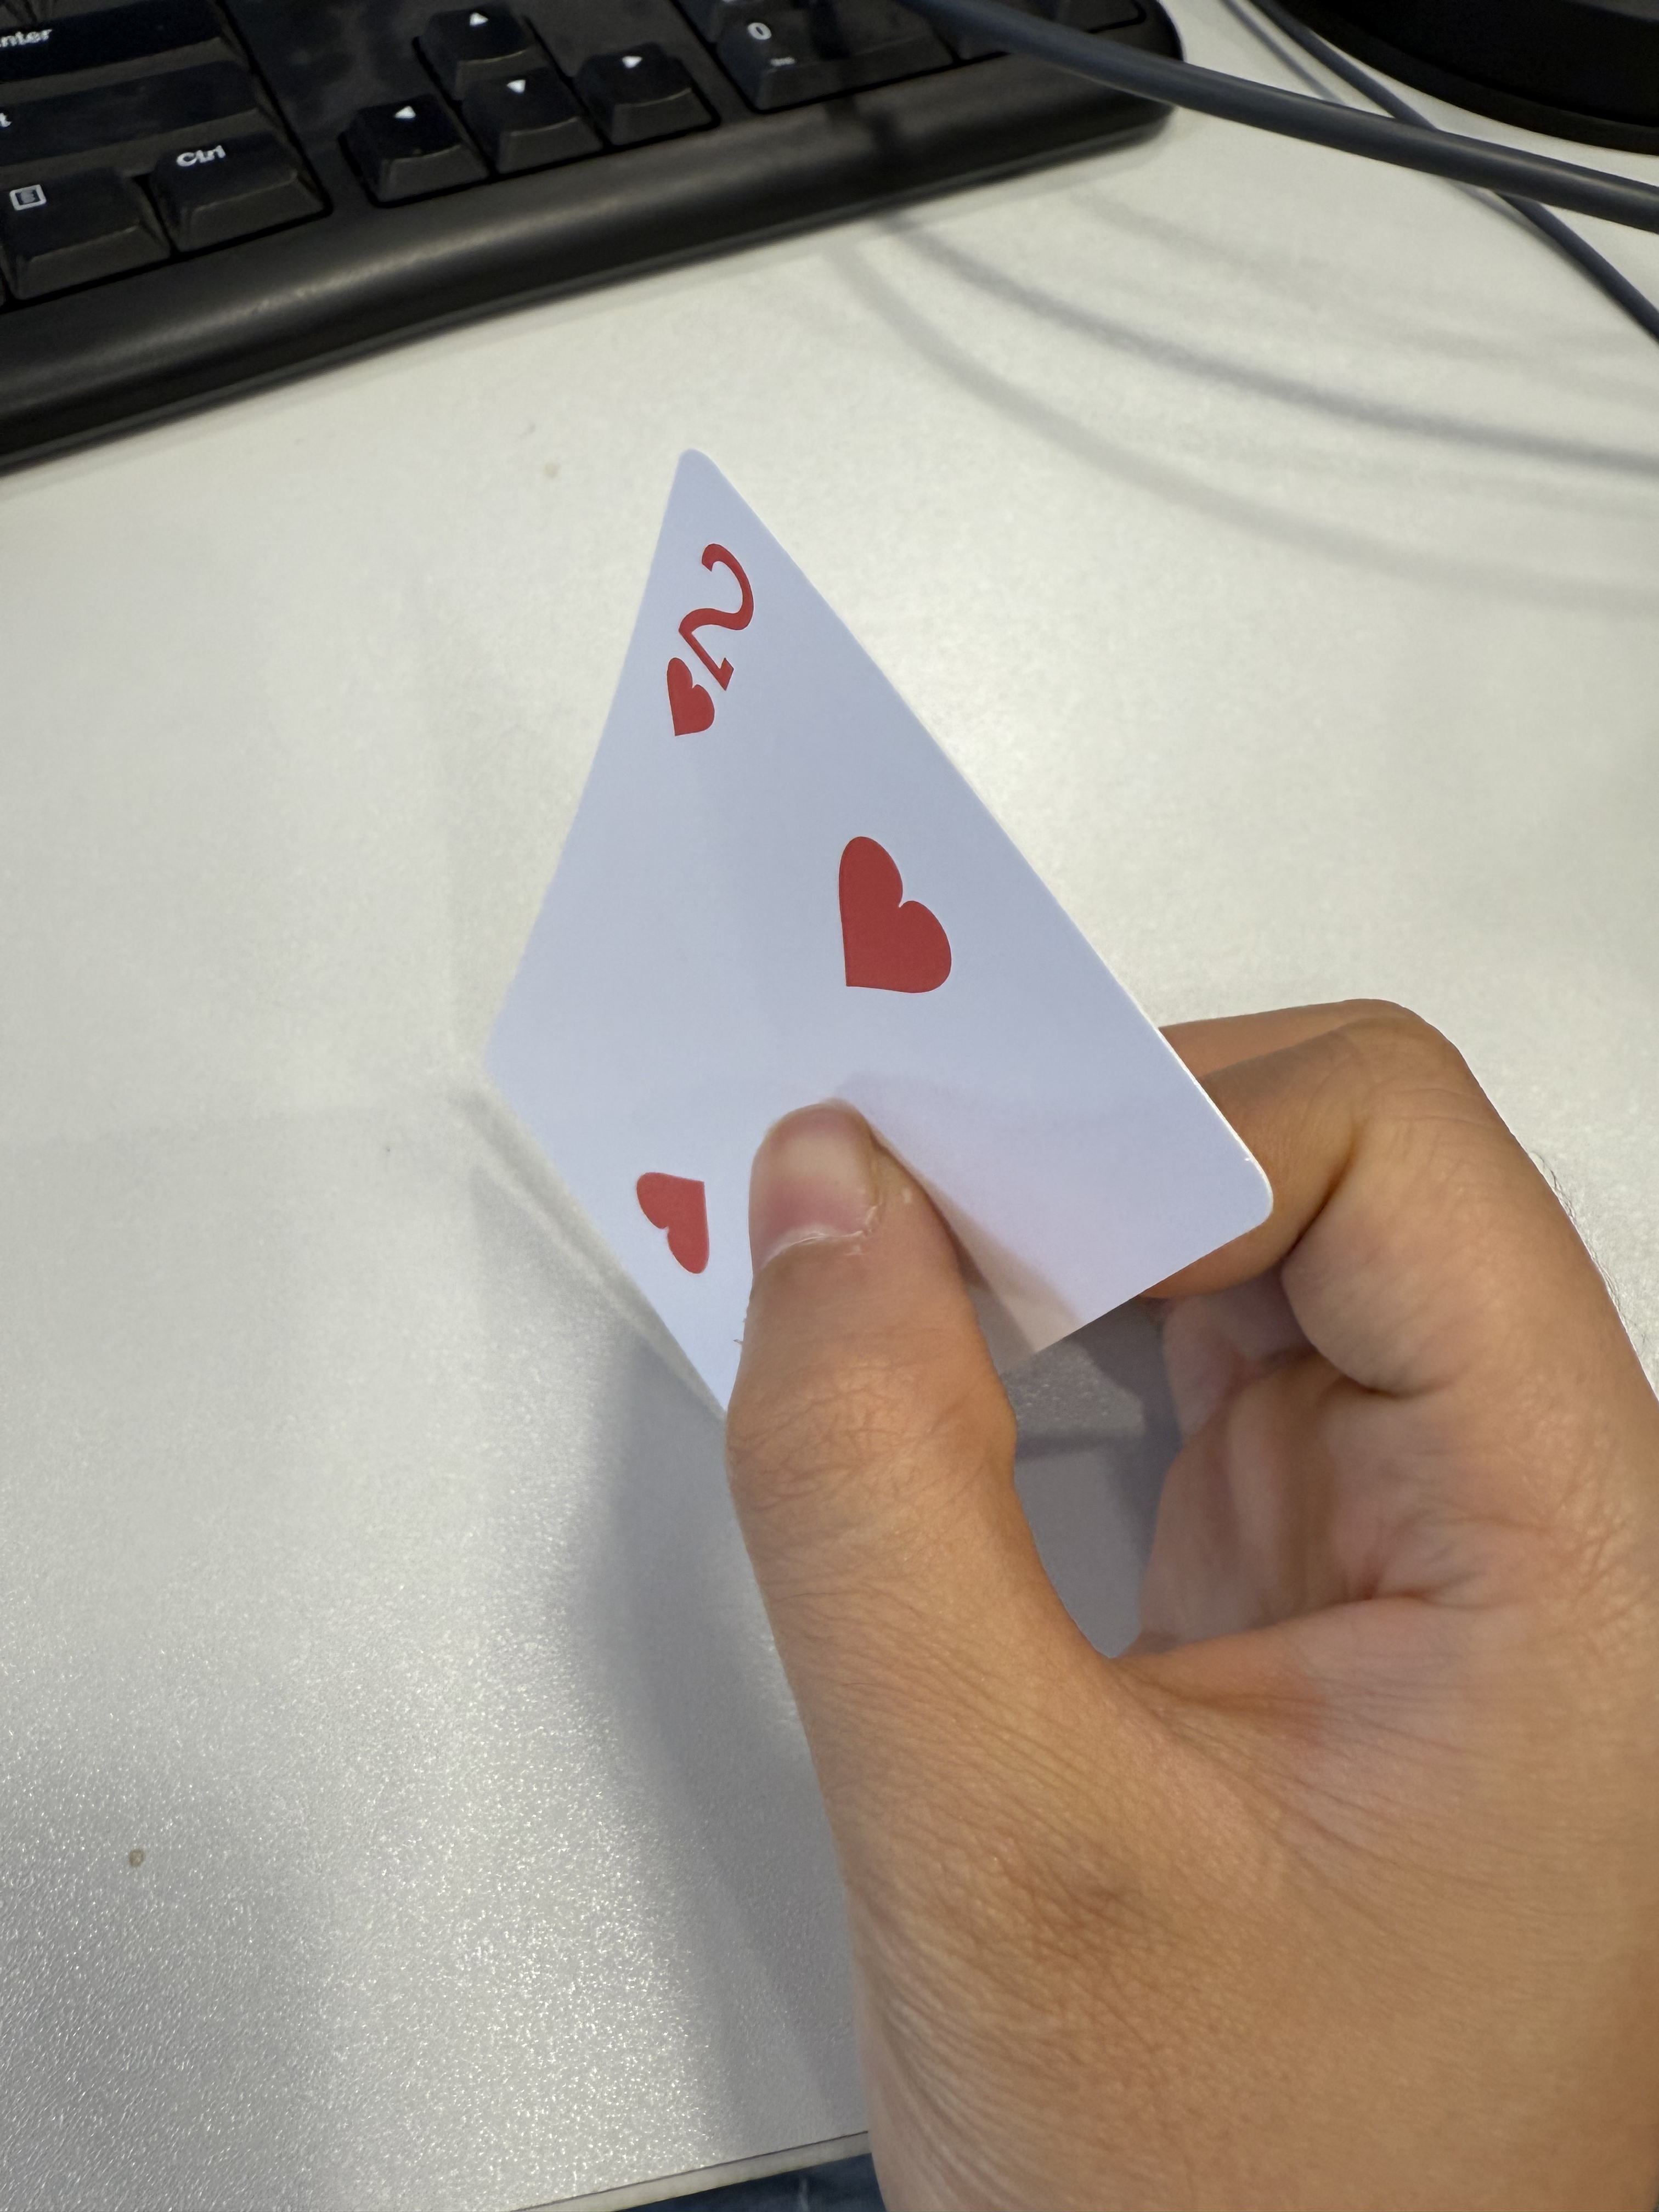poker: (469, 437, 1281, 1463)
